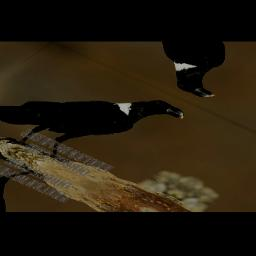Crow: (0, 48, 192, 182)
